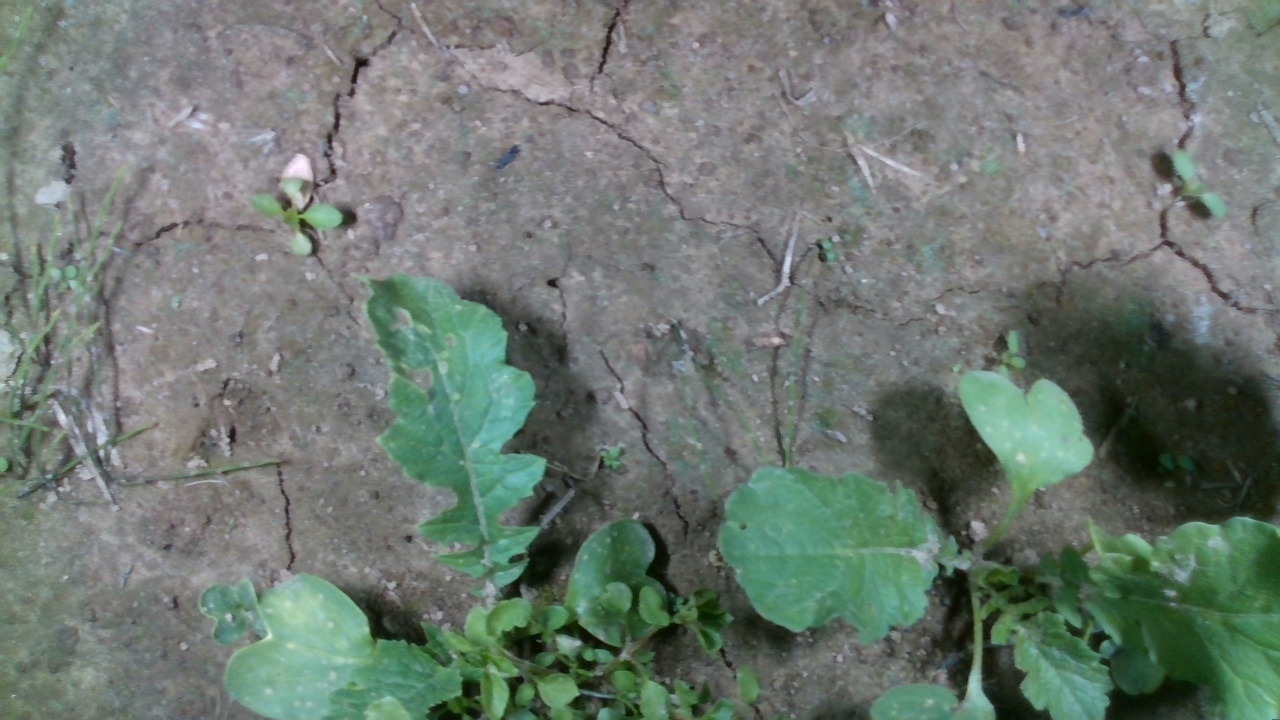weed: (1167, 147, 1228, 219)
